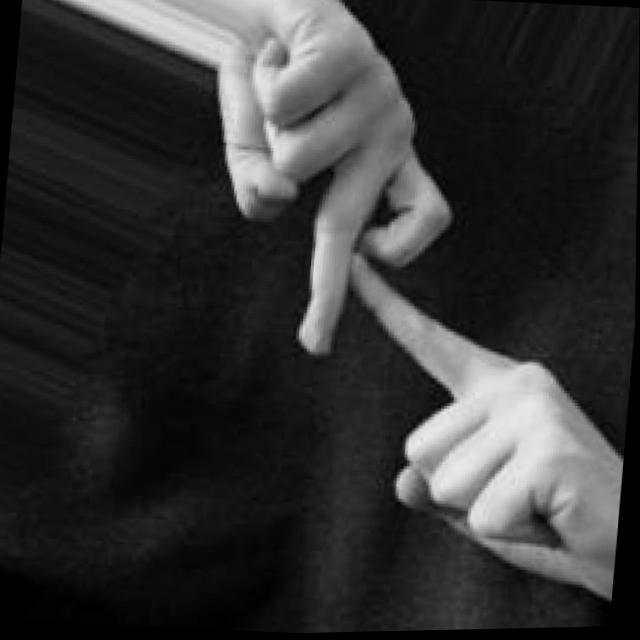R: (169, 0, 640, 615)
